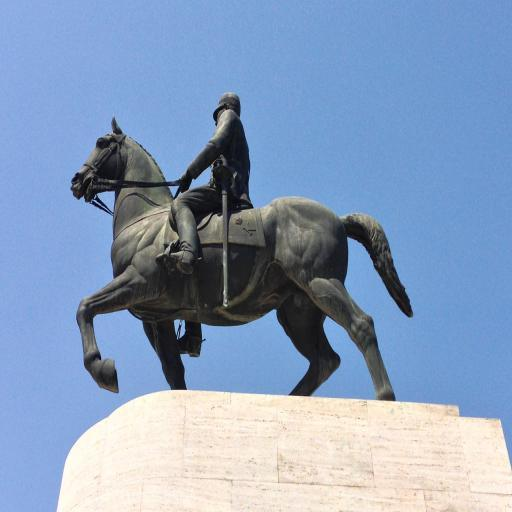horse: (66, 116, 415, 402)
